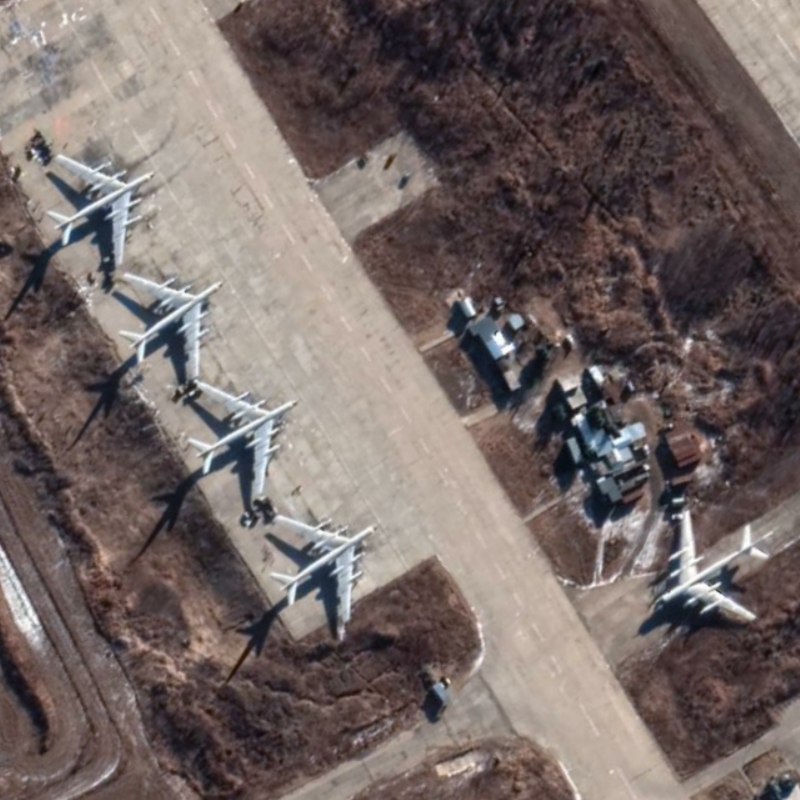A17: (646, 506, 772, 627), (183, 376, 301, 505), (41, 149, 158, 268), (265, 508, 377, 632), (115, 268, 226, 385)
